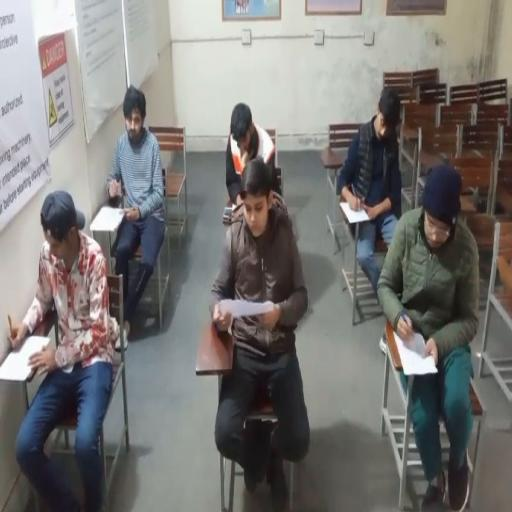paper: (0, 334, 51, 381), (396, 332, 437, 376), (218, 297, 274, 318), (90, 206, 126, 232), (339, 200, 371, 223)
